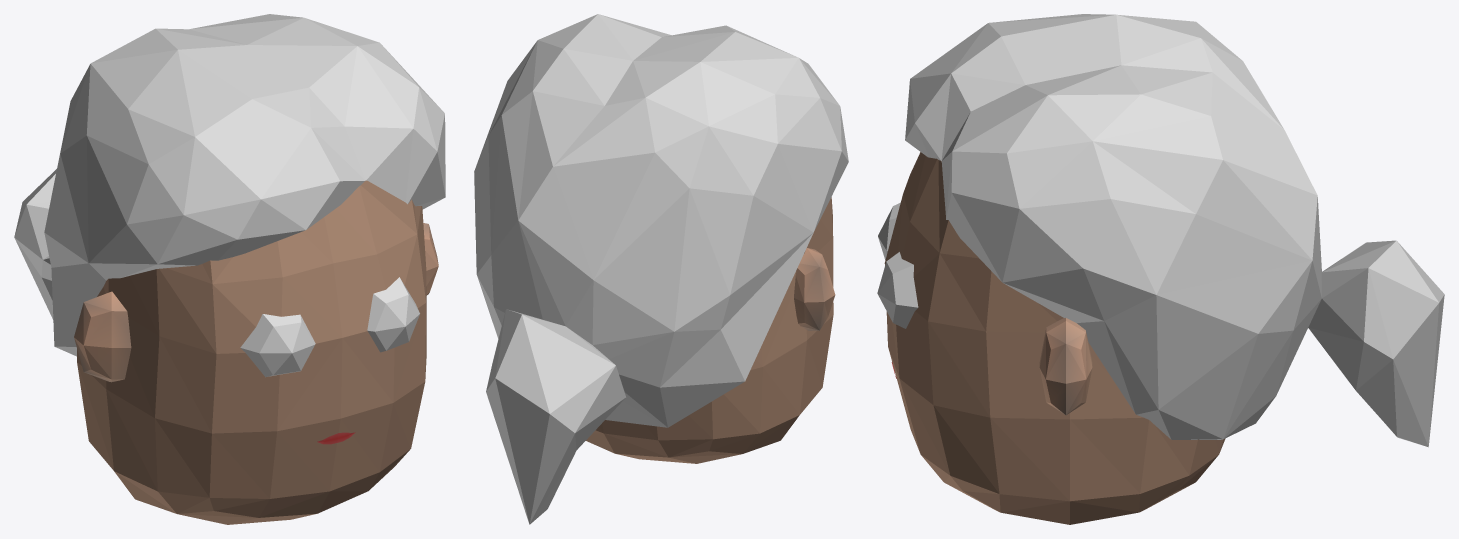
Rendered from Teacher_01.FBX.
The picture shows the model from 3 angles, left to right: view 1: azimuth 30°, elevation 25°; view 2: azimuth 150°, elevation 25°; view 3: azimuth 270°, elevation 25°; orthographic projection. The views are drawn at different scales.
Visible parts, largest first — view 1: Teacher_002; view 2: Teacher_002; view 3: Teacher_002.
Part boxes in pixels (x1,y1,x2,y2): Teacher_002: [14, 14, 445, 524]; Teacher_002: [474, 14, 848, 524]; Teacher_002: [877, 14, 1444, 524].
Bounding box in the file's own units: 14.58 × 17.54 × 19.68.
